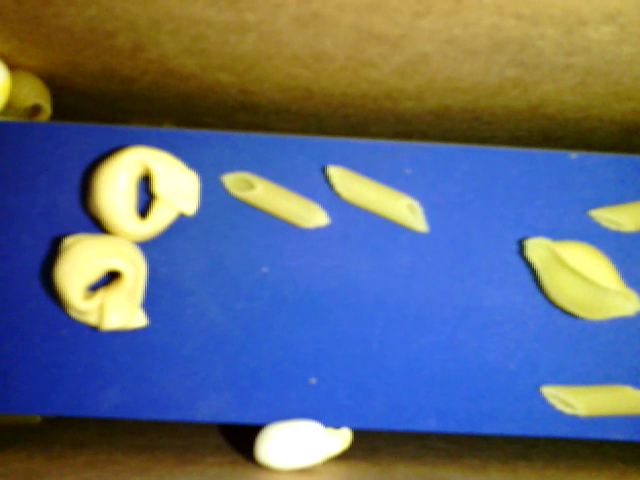penne: (323, 161, 429, 234), (220, 171, 334, 232), (540, 381, 638, 418), (587, 197, 639, 233)
shell: (520, 235, 638, 323), (3, 65, 52, 127)
tortellini: (80, 144, 201, 240), (54, 233, 155, 332)
